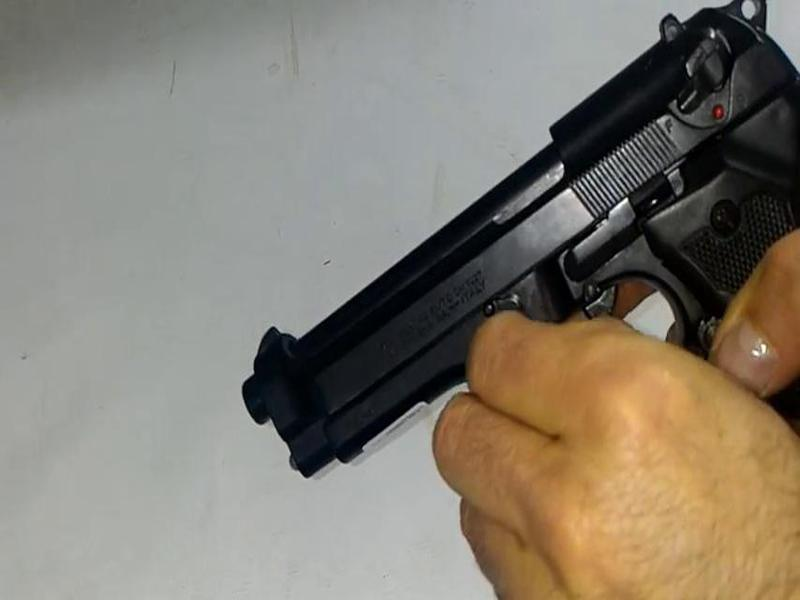Pistola: (237, 1, 800, 507)
